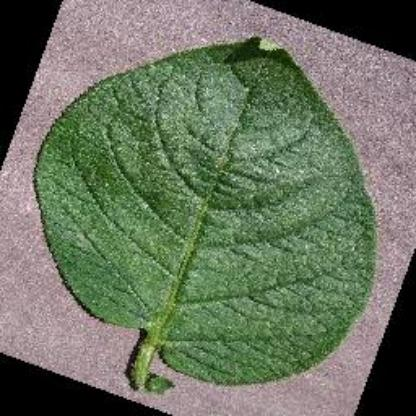Healthy-plant: (33, 32, 379, 392)
